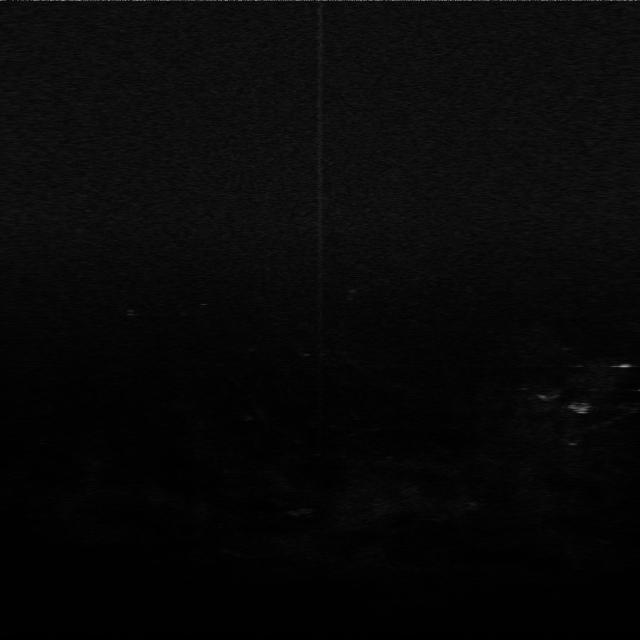rov: (561, 398, 598, 418)
